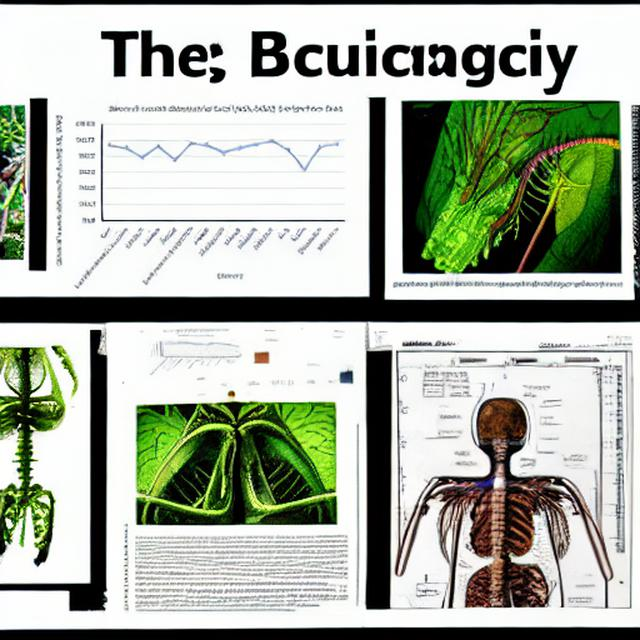Graph: (49, 100, 364, 294), (149, 327, 241, 381)
